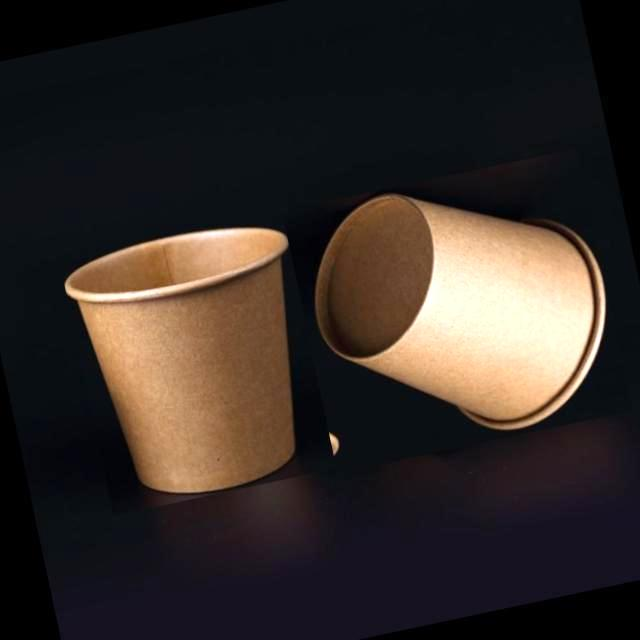Coffee Cup: (312, 187, 606, 435), (60, 219, 300, 496)
